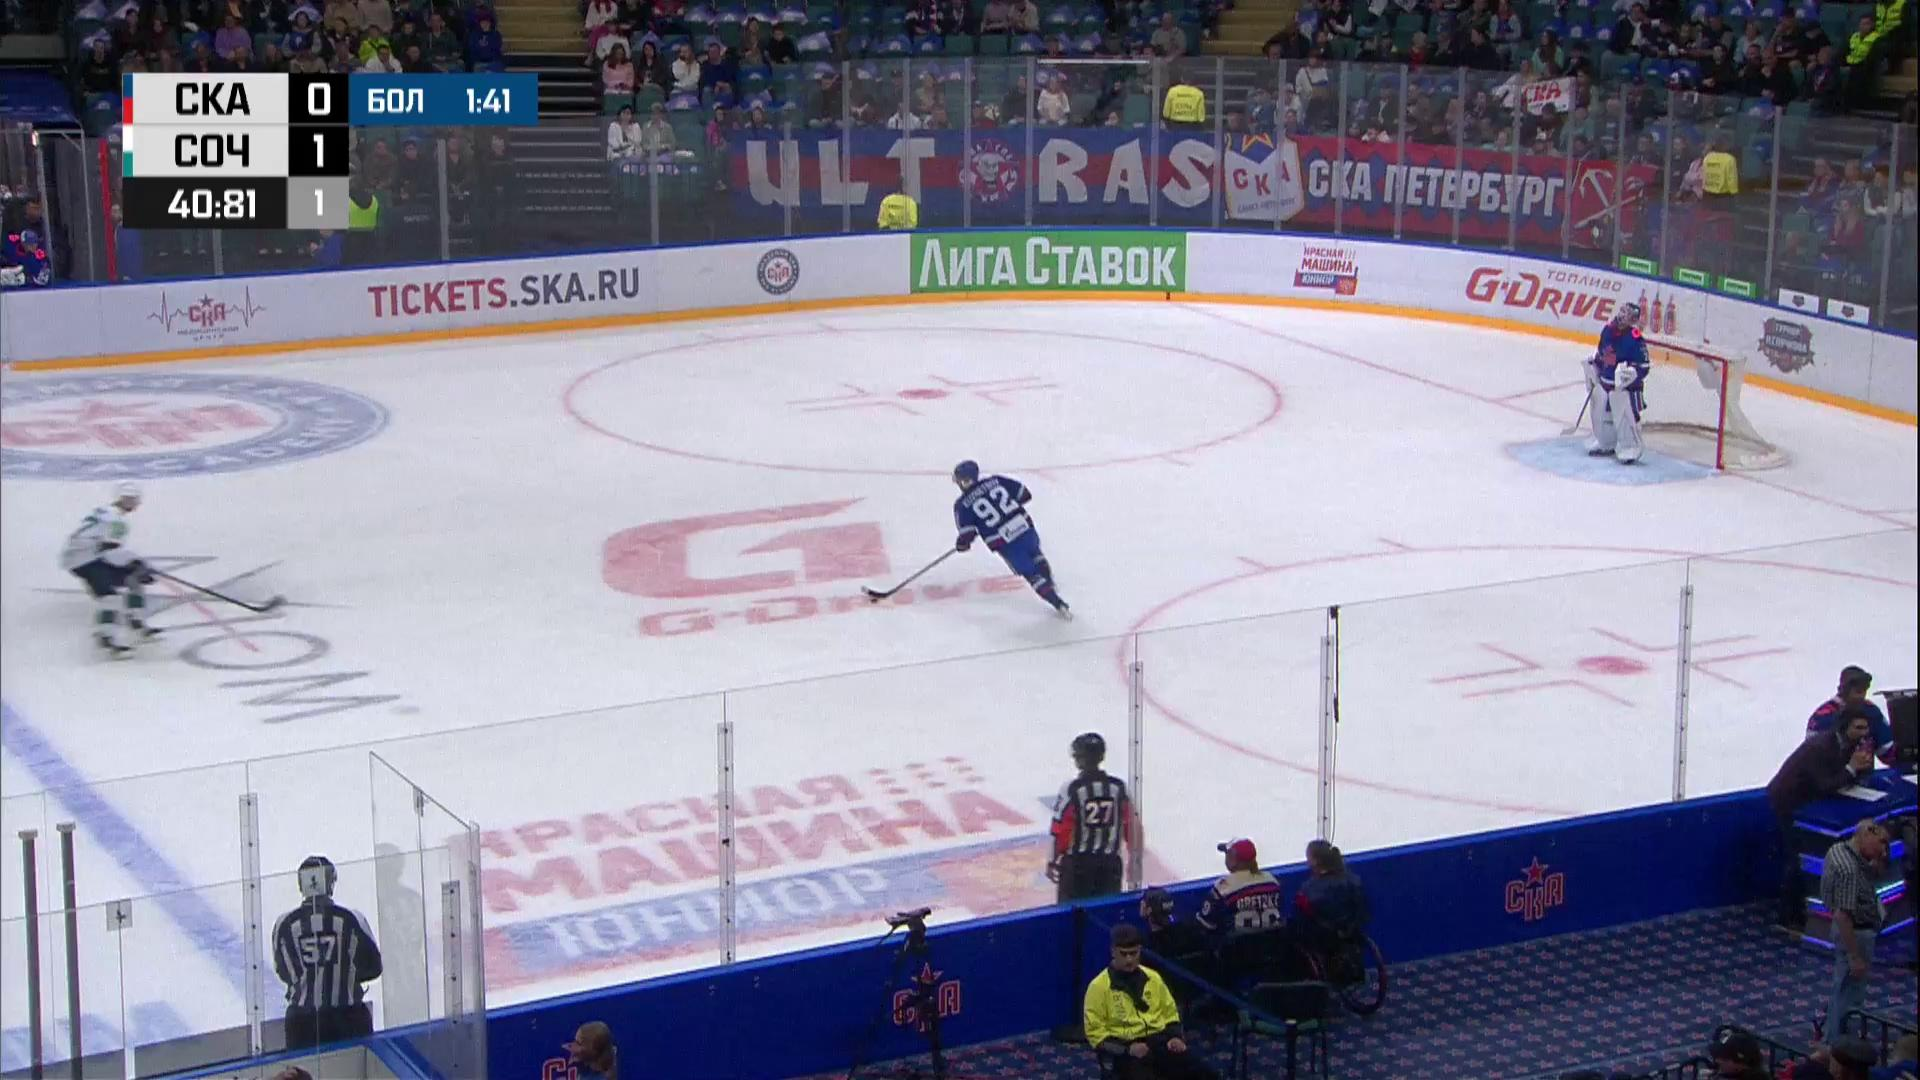ball: (870, 599, 878, 604)
